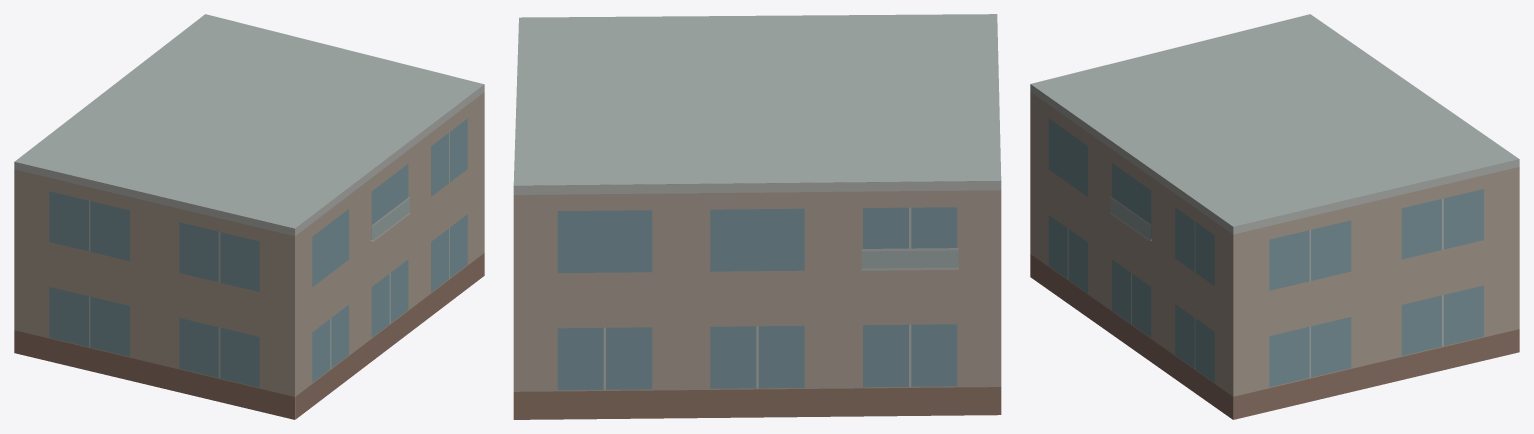
The model's file is survey-upis-32530639.glb.
3 renders of one model, left to right at view 1: azimuth 30°, elevation 25°; view 2: azimuth 150°, elevation 25°; view 3: azimuth 270°, elevation 25°, orthographic. The views are drawn at different scales.
Parts seen in each view (by area): view 1: survey-upis-32530639.tmp; view 2: survey-upis-32530639.tmp; view 3: survey-upis-32530639.tmp.
Part boxes in pixels (left/top/right/bottom): survey-upis-32530639.tmp: left=14, top=14, right=484, bottom=419; survey-upis-32530639.tmp: left=513, top=14, right=1001, bottom=419; survey-upis-32530639.tmp: left=1030, top=14, right=1519, bottom=419.
Size of the model in its own units: 14.43 by 6.1 by 14.02.
